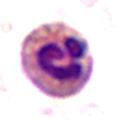eosi: (17, 20, 96, 100)
